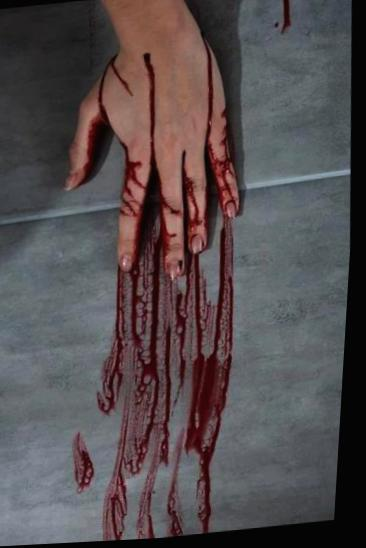Fire: (103, 47, 242, 542), (99, 55, 134, 125), (82, 112, 108, 186), (78, 434, 100, 496), (283, 0, 292, 36)
